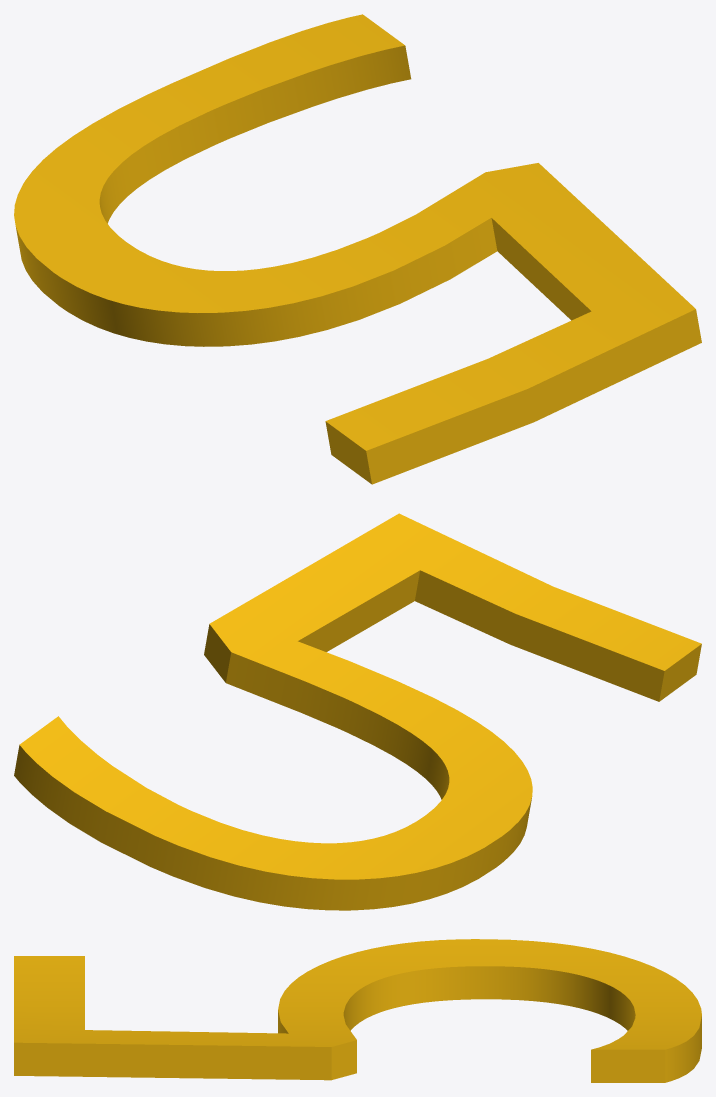
File: Number_5.gltf
The picture shows the model from 3 angles, top to bottom: view 1: azimuth 30°, elevation 25°; view 2: azimuth 150°, elevation 25°; view 3: azimuth 270°, elevation 25°; orthographic projection. The views are drawn at different scales.
Parts seen in each view (by area): view 1: Sub_5_Cell_1_1_Number_5; view 2: Sub_5_Cell_1_1_Number_5; view 3: Sub_5_Cell_1_1_Number_5.
Part boxes in pixels (left/top/right/bottom): Sub_5_Cell_1_1_Number_5: left=14, top=14, right=701, bottom=484; Sub_5_Cell_1_1_Number_5: left=14, top=513, right=701, bottom=910; Sub_5_Cell_1_1_Number_5: left=14, top=939, right=701, bottom=1082.
Size of the model in its own units: 0.0158 by 0.00401 by 0.0255.
